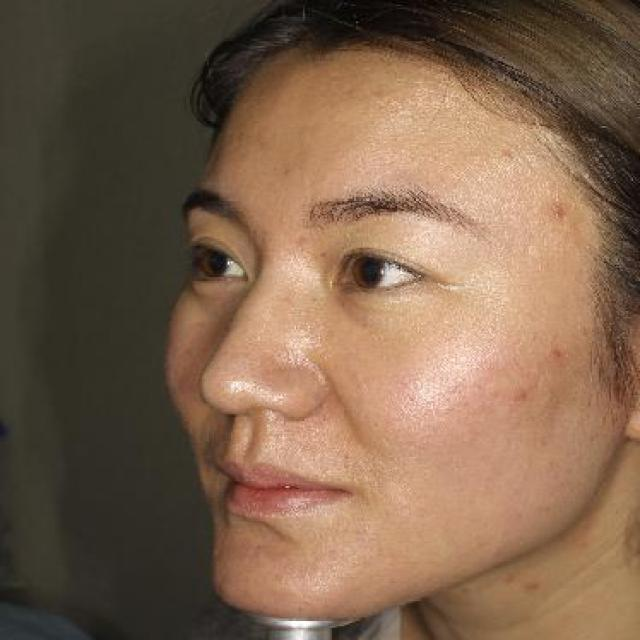Acne: (507, 376, 544, 418), (541, 192, 580, 226), (546, 340, 577, 369)
Whiteheads: (496, 143, 527, 171)
